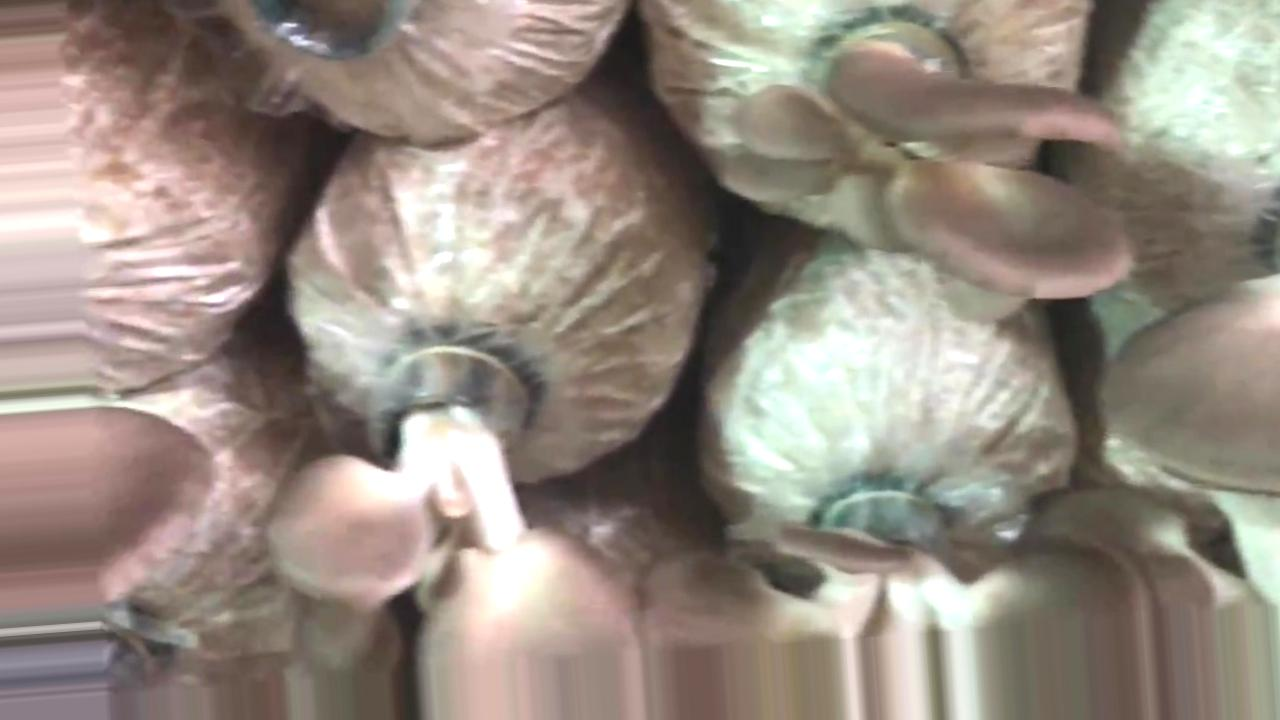nam: (718, 14, 1131, 312), (281, 339, 652, 649), (1103, 259, 1280, 493), (95, 405, 205, 605)
